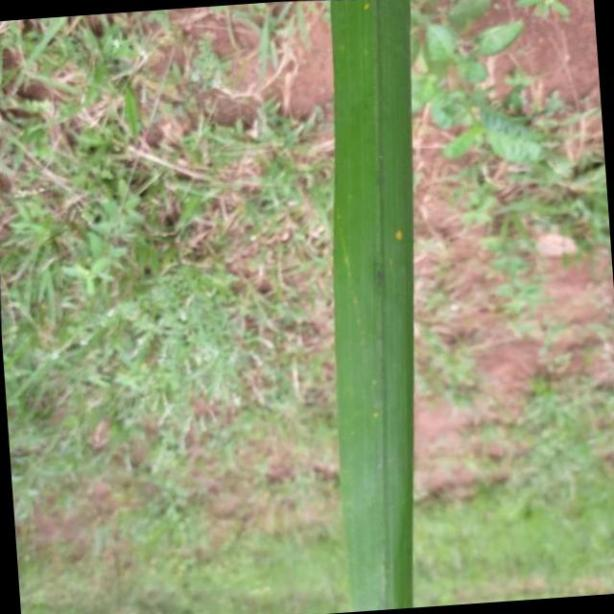Kalium: (331, 0, 419, 614)
